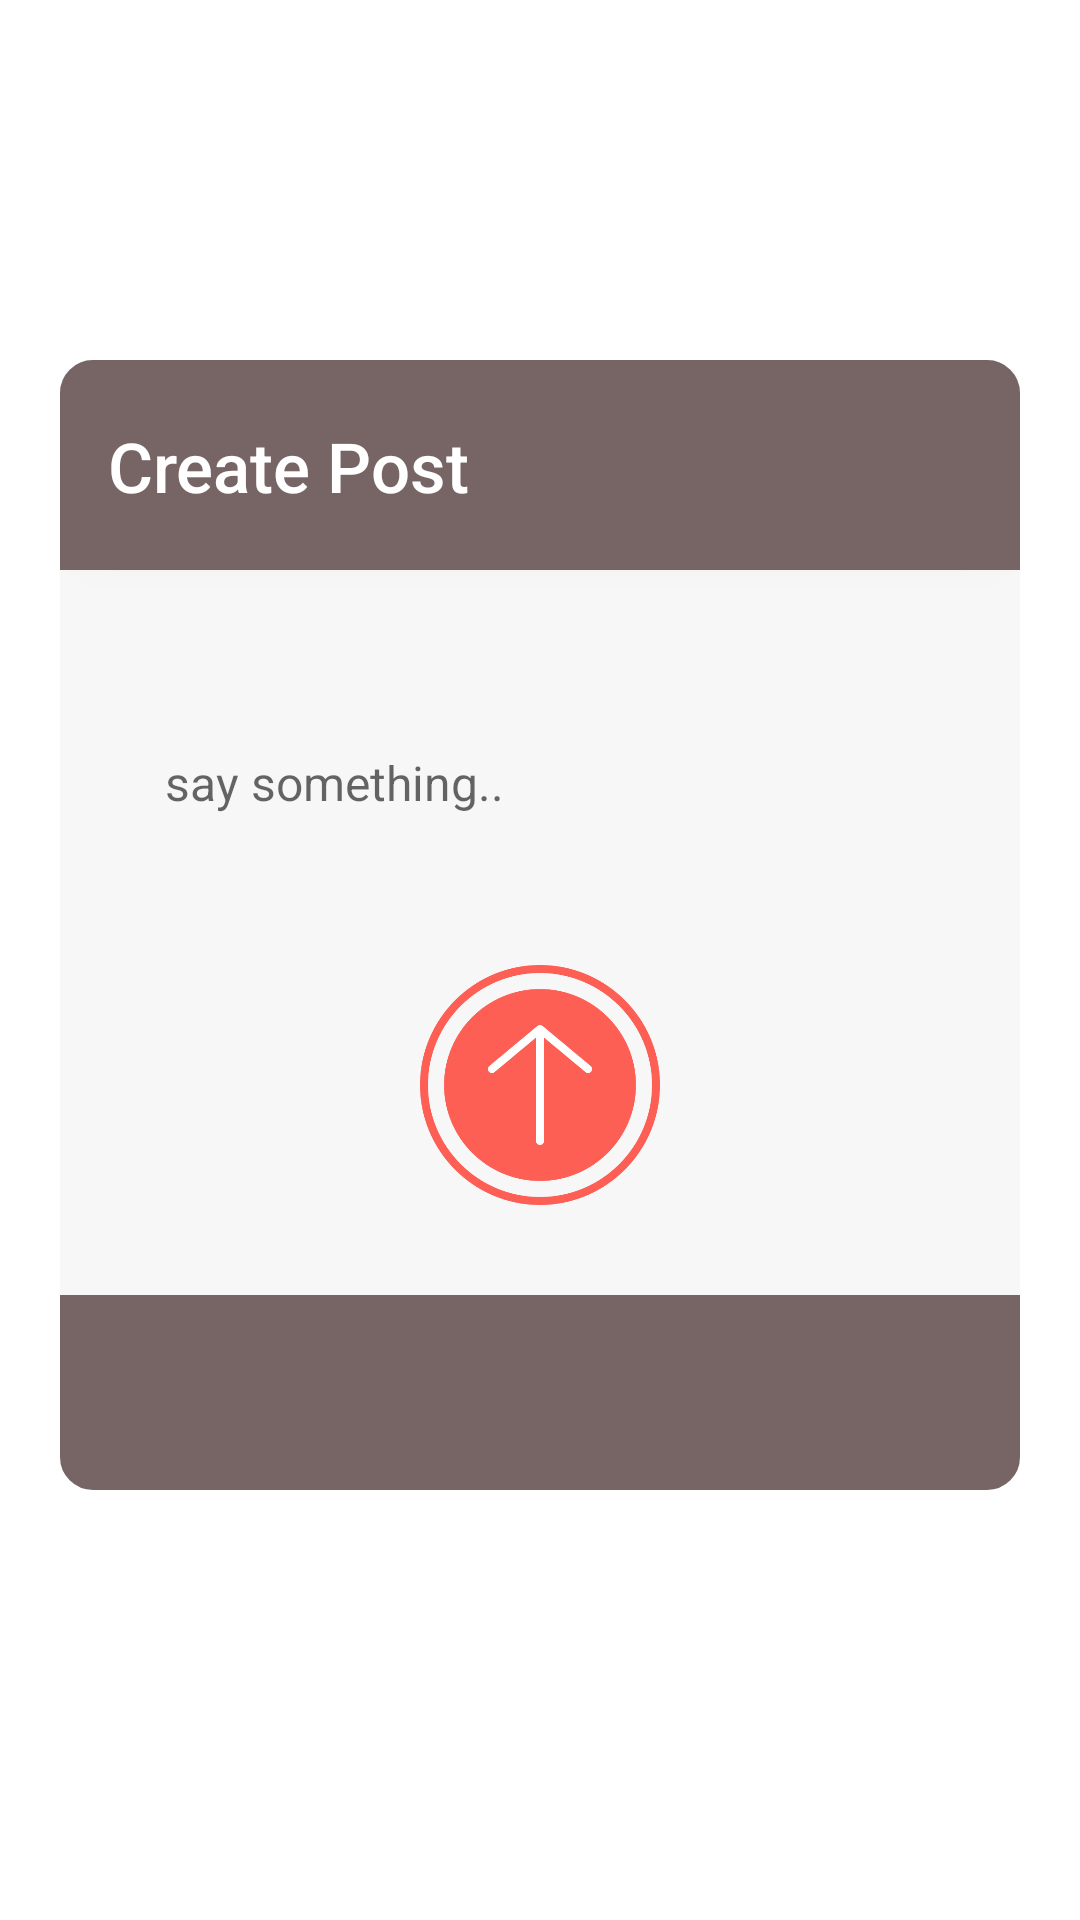

Icons on this 1080 x 1920 Android screen, each with its box as (x1, y1, x2, y2):
uploadpics: (420, 965, 660, 1205)
